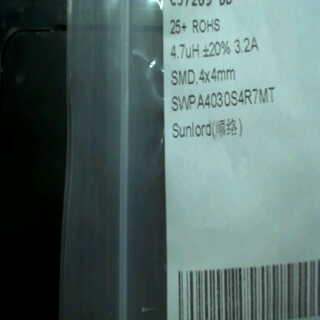4.7uH: (169, 41, 202, 65)
